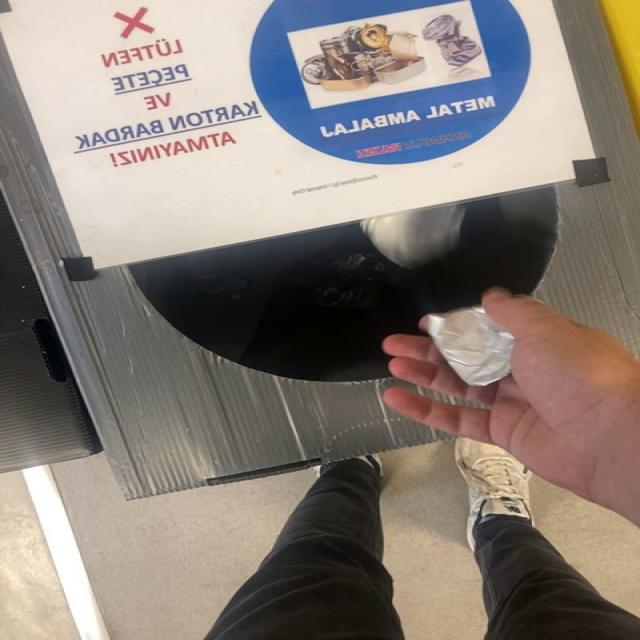bin: (3, 0, 639, 498)
metal: (420, 307, 513, 387)
